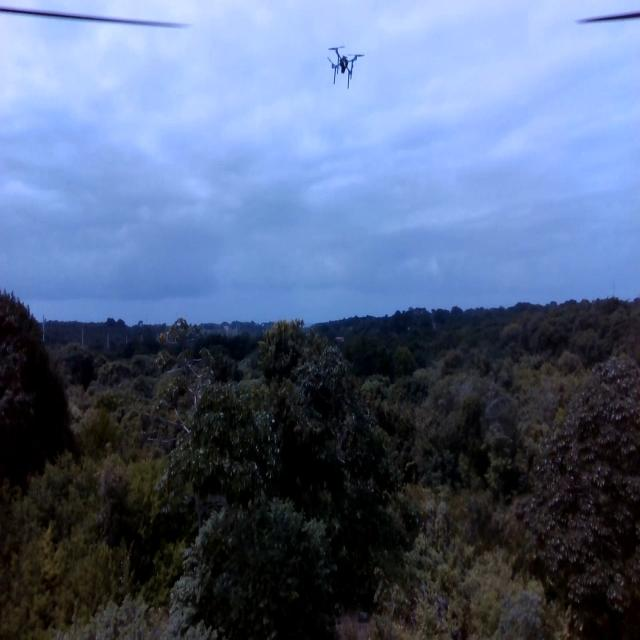-uav-: (319, 31, 372, 96)
